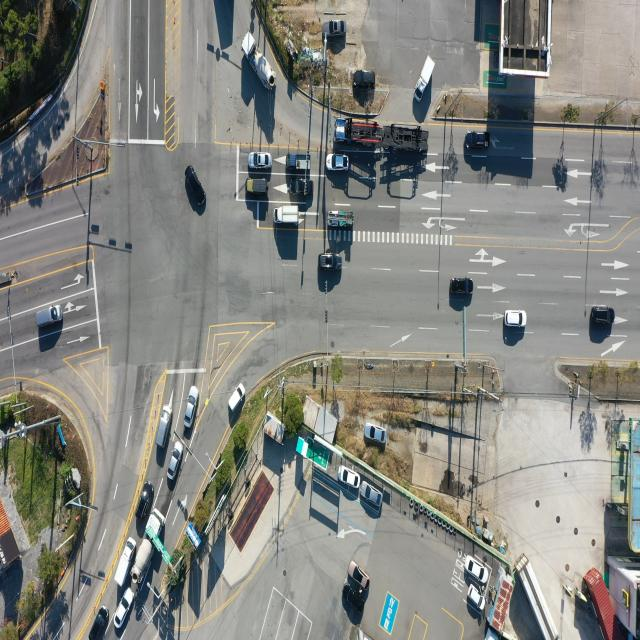car: (184, 165, 205, 207), (344, 581, 364, 622), (118, 589, 136, 630), (89, 605, 110, 640), (158, 405, 174, 450), (348, 557, 368, 593), (182, 386, 198, 430), (167, 440, 184, 480), (137, 484, 154, 522), (467, 556, 490, 584), (34, 304, 60, 327), (362, 482, 384, 508), (590, 307, 615, 326), (464, 131, 489, 150), (318, 252, 344, 270), (228, 381, 246, 407), (450, 278, 475, 296), (467, 585, 484, 610), (340, 466, 360, 487), (328, 155, 351, 173), (290, 182, 313, 200), (364, 423, 385, 442), (353, 69, 375, 87), (246, 177, 269, 194), (325, 20, 346, 38), (251, 151, 273, 168), (506, 310, 526, 328)
large_truck: (332, 116, 426, 160)
medium_truck: (520, 550, 562, 638), (132, 512, 164, 584), (242, 29, 274, 92)
small_truck: (115, 536, 136, 586), (414, 55, 435, 102), (326, 210, 352, 228), (276, 206, 300, 225), (287, 154, 311, 172)
